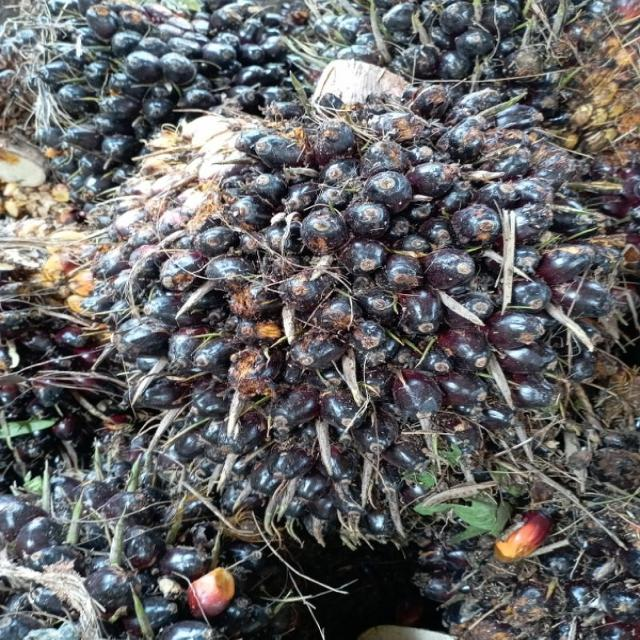fraksi 00: (26, 26, 616, 546)
